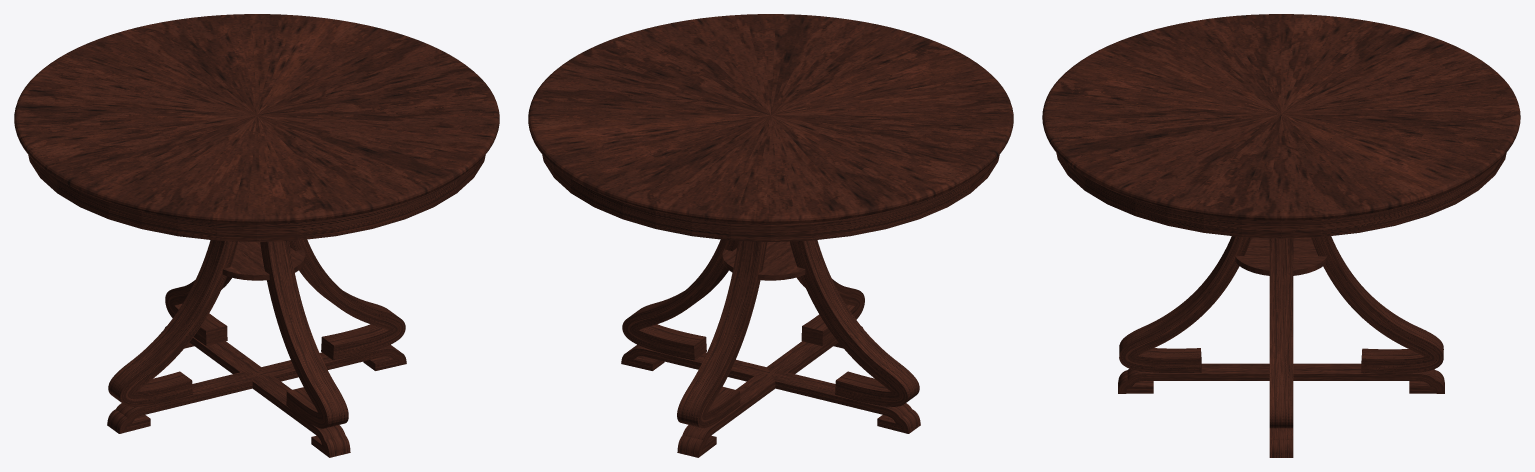
The model's file is RoundTable_S.fbx.
The picture shows the model from 3 angles, left to right: view 1: azimuth 30°, elevation 25°; view 2: azimuth 150°, elevation 25°; view 3: azimuth 270°, elevation 25°; orthographic projection.
Parts seen in each view (by area): view 1: RoundTable_S; view 2: RoundTable_S; view 3: RoundTable_S.
Boxes of the visible parts, left/top/right/bottom form: RoundTable_S: left=14, top=14, right=499, bottom=457; RoundTable_S: left=528, top=14, right=1013, bottom=457; RoundTable_S: left=1042, top=14, right=1520, bottom=457.
Size of the model in its own units: 300 by 190 by 300.
Materials: 1 (1 with a texture image).
